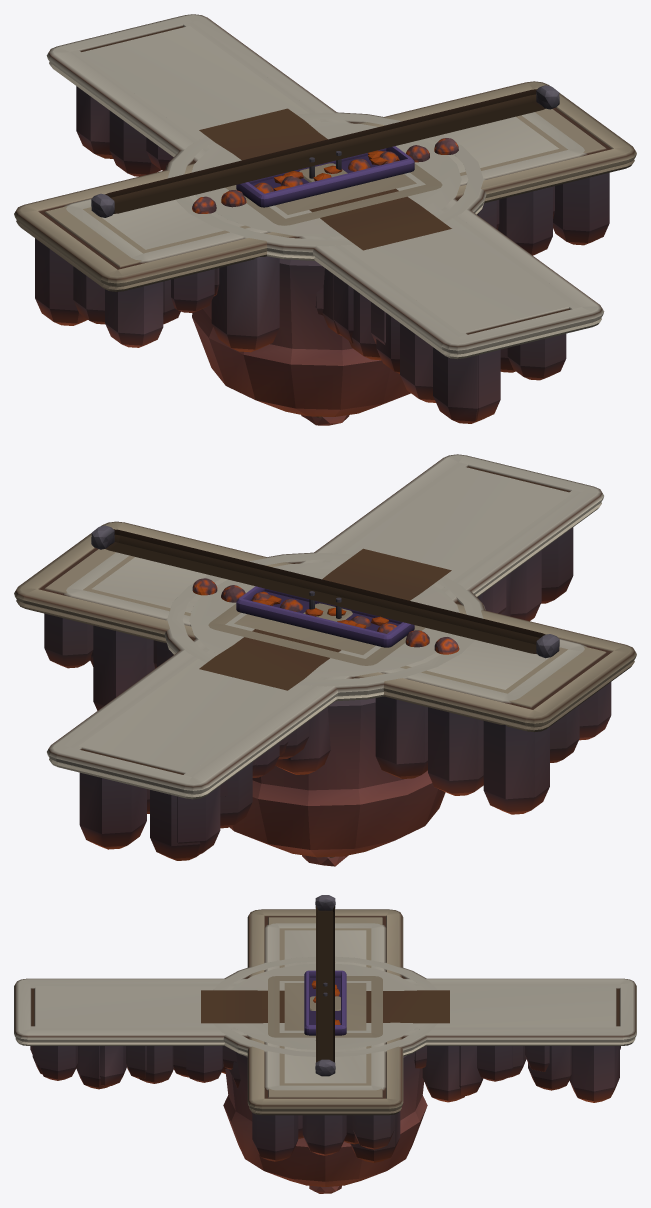
File: volcano-3-eHbtfnol.glb
3 renders of one model, top to bottom at view 1: azimuth 30°, elevation 25°; view 2: azimuth 150°, elevation 25°; view 3: azimuth 270°, elevation 25°, orthographic. The views are drawn at different scales.
Visible parts, largest first — view 1: block_9x2x40_grate#1, block_30x2x10_column#1, disc_16x1.5#0, block_26x2x8_grate#1, block_8x2x40_grate#1, mount_12.5#0, beam_5x1.5x16_plank#1, burner_8x1.2x2#0, block_10x2x8_column#1, balls_15x1.4#0, truss_12#0; view 2: block_9x2x40_grate#1, block_30x2x10_column#1, disc_16x1.5#0, mount_12.5#0, block_26x2x8_grate#1, block_8x2x40_grate#1, beam_5x1.5x16_plank#1, burner_8x1.2x2#0, block_10x2x8_column#1, balls_15x1.4#0; view 3: block_9x2x40_grate#1, block_30x2x10_column#1, disc_16x1.5#0, block_26x2x8_grate#1, block_8x2x40_grate#1, beam_5x1.5x16_plank#1, block_10x2x8_column#1, mount_12.5#0, burner_8x1.2x2#0.
Boxes of the visible parts, x1,y1,x2,y2 form: block_9x2x40_grate#1: (46, 14, 604, 423); block_30x2x10_column#1: (14, 81, 636, 352); disc_16x1.5#0: (165, 112, 486, 416); block_26x2x8_grate#1: (63, 112, 587, 324); block_8x2x40_grate#1: (66, 17, 585, 422); mount_12.5#0: (91, 85, 559, 217); beam_5x1.5x16_plank#1: (199, 108, 451, 250); burner_8x1.2x2#0: (236, 146, 414, 207); block_10x2x8_column#1: (225, 163, 442, 225); balls_15x1.4#0: (192, 138, 458, 213); truss_12#0: (300, 163, 349, 425); block_9x2x40_grate#1: (47, 454, 603, 854); block_30x2x10_column#1: (14, 521, 636, 814); disc_16x1.5#0: (164, 552, 485, 857); mount_12.5#0: (91, 525, 559, 658); block_26x2x8_grate#1: (63, 552, 587, 703); block_8x2x40_grate#1: (65, 457, 584, 860); beam_5x1.5x16_plank#1: (199, 548, 451, 690); burner_8x1.2x2#0: (236, 586, 414, 647); block_10x2x8_column#1: (208, 603, 425, 665); balls_15x1.4#0: (192, 578, 459, 654); block_9x2x40_grate#1: (14, 978, 636, 1102); block_30x2x10_column#1: (247, 909, 403, 1162); disc_16x1.5#0: (213, 956, 437, 1186); block_26x2x8_grate#1: (264, 923, 386, 1144); block_8x2x40_grate#1: (14, 984, 636, 1095); beam_5x1.5x16_plank#1: (201, 990, 449, 1023); block_10x2x8_column#1: (268, 976, 382, 1037); mount_12.5#0: (315, 895, 335, 1076); burner_8x1.2x2#0: (304, 970, 346, 1035).
Size of the model in its own units: 30 by 15.03 by 40.
